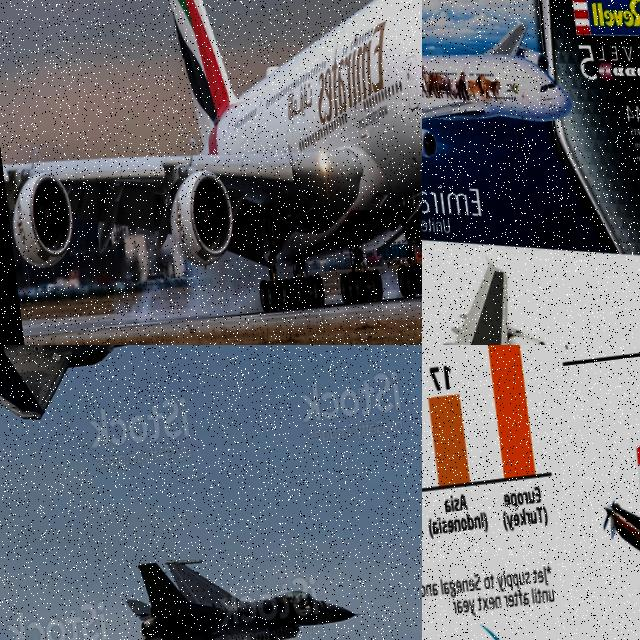A380: (0, 0, 422, 342), (422, 171, 610, 345), (422, 0, 581, 172)
F22: (118, 537, 360, 640), (0, 345, 196, 449)
KT-1: (588, 417, 640, 640)
